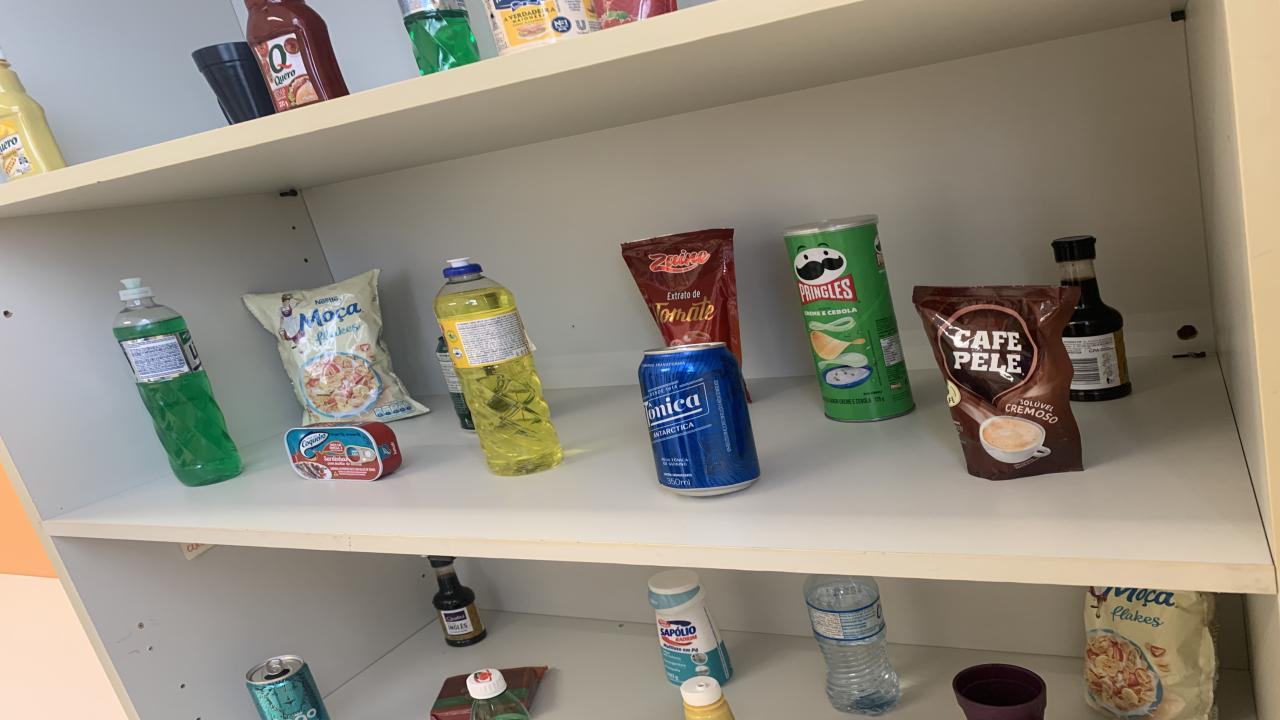Cleaner-Cleanup_Items: (648, 570, 732, 684)
Coffee-Pantry_Items: (912, 287, 1082, 480)
Detergent-Cleanup_Items: (432, 259, 562, 476), (112, 278, 242, 486), (398, 0, 480, 75)
English_Sauce-Pantry_Items: (1052, 236, 1132, 401), (428, 555, 488, 647)
Flakes-Snacks: (242, 270, 428, 424), (1085, 587, 1218, 720)
Guarana-Drinks: (465, 668, 530, 720)
Guarana_Can-Drinks: (435, 336, 475, 429)
Guava-Snacks: (500, 666, 548, 709), (430, 675, 472, 720)
Ketchup-Pantry_Items: (245, 0, 348, 112)
Mayonnaise-Pantry_Items: (485, 0, 600, 56)
Mustard-Pantry_Items: (0, 51, 65, 180), (680, 677, 735, 720)
Pringles-Snacks: (785, 216, 915, 422)
Tea-Drinks: (248, 654, 330, 720)
Tomato_Sauce-Pantry_Items: (622, 229, 742, 360), (592, 0, 678, 28)
Tonic-Drinks: (638, 343, 760, 495)
Tuna_Can-Pantry_Items: (285, 422, 400, 482)
Water_Bottle-Drinks: (802, 574, 900, 716)
